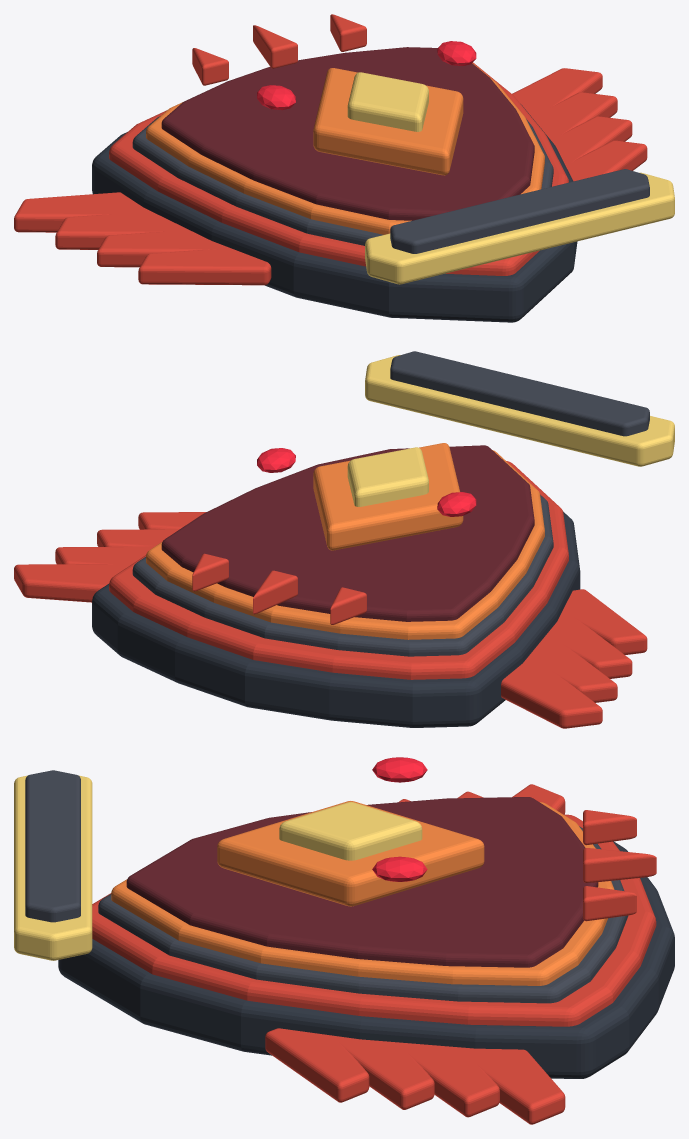
The model's file is elite_2.glb.
The picture shows the model from 3 angles, top to bottom: view 1: azimuth 30°, elevation 25°; view 2: azimuth 150°, elevation 25°; view 3: azimuth 270°, elevation 25°; orthographic projection. The views are drawn at different scales.
Parts seen in each view (by area): view 1: SHIELD_FACE.005, SHIELD_BACK.005, NAMEPLATE_FRAME.005, NAMEPLATE_BLANK.005, ELITE_II_OUTER, SHIELD_FRAME.005, ACCENT_FRAME.002, SHIELD_DARK_TRIM.005, BLADE_L_3, ELITE_II_GOLD_CORE, BLADE_L_0.004, BLADE_L_1.003 (+10 smaller); view 2: SHIELD_FACE.005, SHIELD_BACK.005, SHIELD_FRAME.005, NAMEPLATE_FRAME.005, NAMEPLATE_BLANK.005, SHIELD_DARK_TRIM.005, ACCENT_FRAME.002, ELITE_II_OUTER, BLADE_L_0.004, ELITE_II_GOLD_CORE, BLADE_R_0.004, BLADE_L_1.003 (+10 smaller); view 3: SHIELD_FACE.005, SHIELD_BACK.005, SHIELD_FRAME.005, ELITE_II_OUTER, ACCENT_FRAME.002, SHIELD_DARK_TRIM.005, NAMEPLATE_BLANK.005, NAMEPLATE_FRAME.005, ELITE_II_GOLD_CORE, BLADE_R_3, BLADE_R_0.004, BLADE_R_1.003 (+7 smaller).
Boxes of the visible parts, x1,y1,x2,y2 form: SHIELD_FACE.005: [161, 47, 534, 220]; SHIELD_BACK.005: [92, 104, 577, 322]; NAMEPLATE_FRAME.005: [365, 172, 674, 284]; NAMEPLATE_BLANK.005: [390, 169, 649, 253]; ELITE_II_OUTER: [313, 68, 463, 175]; SHIELD_FRAME.005: [109, 62, 568, 275]; ACCENT_FRAME.002: [146, 63, 544, 234]; SHIELD_DARK_TRIM.005: [132, 116, 553, 245]; BLADE_L_3: [138, 248, 271, 285]; ELITE_II_GOLD_CORE: [347, 72, 428, 131]; BLADE_L_0.004: [14, 192, 156, 232]; BLADE_L_1.003: [55, 214, 192, 249]; SHIELD_FACE.005: [161, 445, 534, 621]; SHIELD_BACK.005: [92, 511, 580, 727]; SHIELD_FRAME.005: [109, 461, 568, 679]; NAMEPLATE_FRAME.005: [365, 355, 674, 466]; NAMEPLATE_BLANK.005: [390, 351, 649, 436]; SHIELD_DARK_TRIM.005: [132, 494, 553, 656]; ACCENT_FRAME.002: [146, 450, 544, 639]; ELITE_II_OUTER: [313, 443, 463, 550]; BLADE_L_0.004: [501, 655, 602, 728]; ELITE_II_GOLD_CORE: [347, 447, 428, 506]; BLADE_R_0.004: [14, 564, 131, 602]; BLADE_L_1.003: [527, 633, 617, 702]; SHIELD_FACE.005: [126, 797, 598, 967]; SHIELD_BACK.005: [58, 841, 674, 1078]; SHIELD_FRAME.005: [92, 814, 656, 1026]; ELITE_II_OUTER: [217, 801, 484, 906]; ACCENT_FRAME.002: [111, 802, 614, 985]; SHIELD_DARK_TRIM.005: [98, 826, 628, 1003]; NAMEPLATE_BLANK.005: [25, 770, 80, 922]; NAMEPLATE_FRAME.005: [14, 775, 92, 960]; ELITE_II_GOLD_CORE: [279, 802, 422, 860]; BLADE_R_3: [265, 1028, 369, 1102]; BLADE_R_0.004: [452, 1047, 565, 1124]; BLADE_R_1.003: [392, 1042, 499, 1117].
Size of the model in its own units: 4.69 by 1.12 by 4.04.
